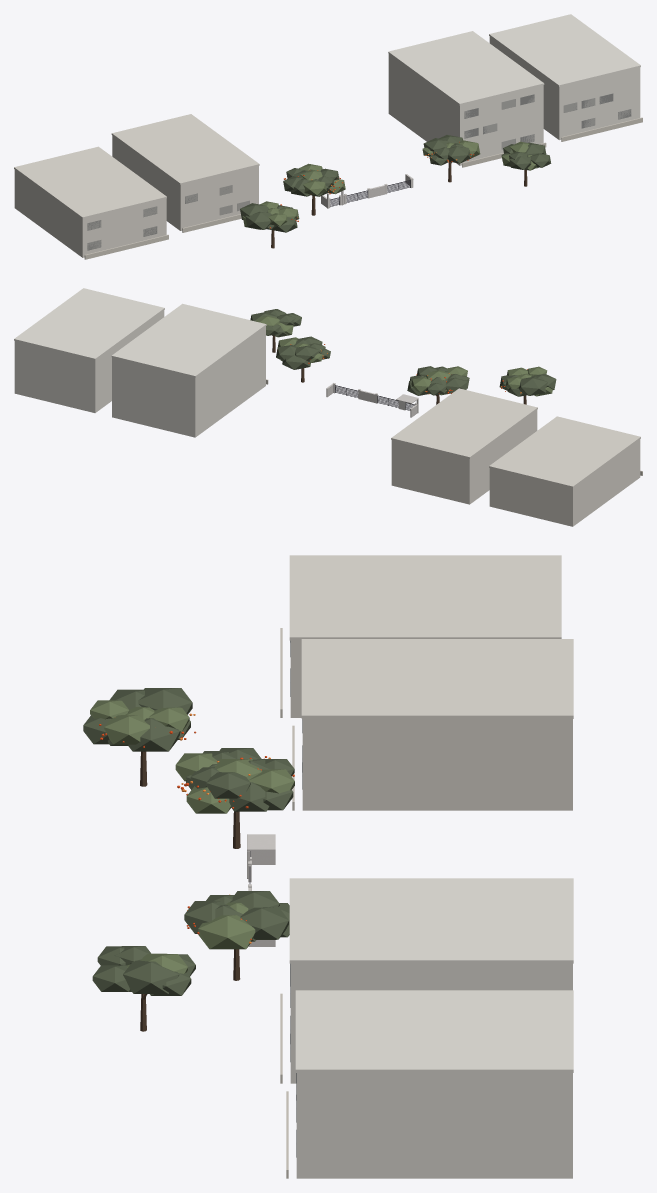
Rendered from site.gltf.
3 views of the same model, one above another, from view 1: azimuth 30°, elevation 25°; view 2: azimuth 150°, elevation 25°; view 3: azimuth 270°, elevation 25° (orthographic). The views are drawn at different scales.
Visible parts, largest first — view 1: Neighbour Plaster A, Neighbour Plaster B, Foliage #59634D, Neighbour Glass, Foliage #6F7D5A, Neighbour Wall, Lime White.005, Charcoal Steel.004; view 2: Neighbour Plaster A, Neighbour Plaster B, Foliage #59634D, Foliage #6F7D5A, Lime White.005, Charcoal Steel.004; view 3: Neighbour Plaster A, Neighbour Plaster B, Foliage #59634D, Foliage #6F7D5A, Lime White.005, Neighbour Wall, Bark.003.
Part boxes in pixels (<box>): Neighbour Plaster A: <box>388,14,640,165</box>; Neighbour Plaster B: <box>14,114,259,257</box>; Foliage #59634D: <box>240,135,551,232</box>; Neighbour Glass: <box>87,93,631,250</box>; Foliage #6F7D5A: <box>242,140,536,229</box>; Neighbour Wall: <box>84,117,642,259</box>; Lime White.005: <box>321,175,413,208</box>; Charcoal Steel.004: <box>330,180,410,206</box>; Neighbour Plaster A: <box>14,288,266,437</box>; Neighbour Plaster B: <box>391,388,640,526</box>; Foliage #59634D: <box>250,309,556,396</box>; Foliage #6F7D5A: <box>256,315,552,396</box>; Lime White.005: <box>326,384,418,417</box>; Charcoal Steel.004: <box>335,385,414,410</box>; Neighbour Plaster A: <box>289,878,573,1178</box>; Neighbour Plaster B: <box>289,555,573,810</box>; Foliage #59634D: <box>83,688,294,995</box>; Foliage #6F7D5A: <box>90,700,294,991</box>; Lime White.005: <box>247,834,275,946</box>; Neighbour Wall: <box>280,628,294,1178</box>; Bark.003: <box>140,751,240,1031</box>.
Bounding box in the file's own units: 42.76 × 4.54 × 16.34.
Materials: 12 (3 with a texture image).
